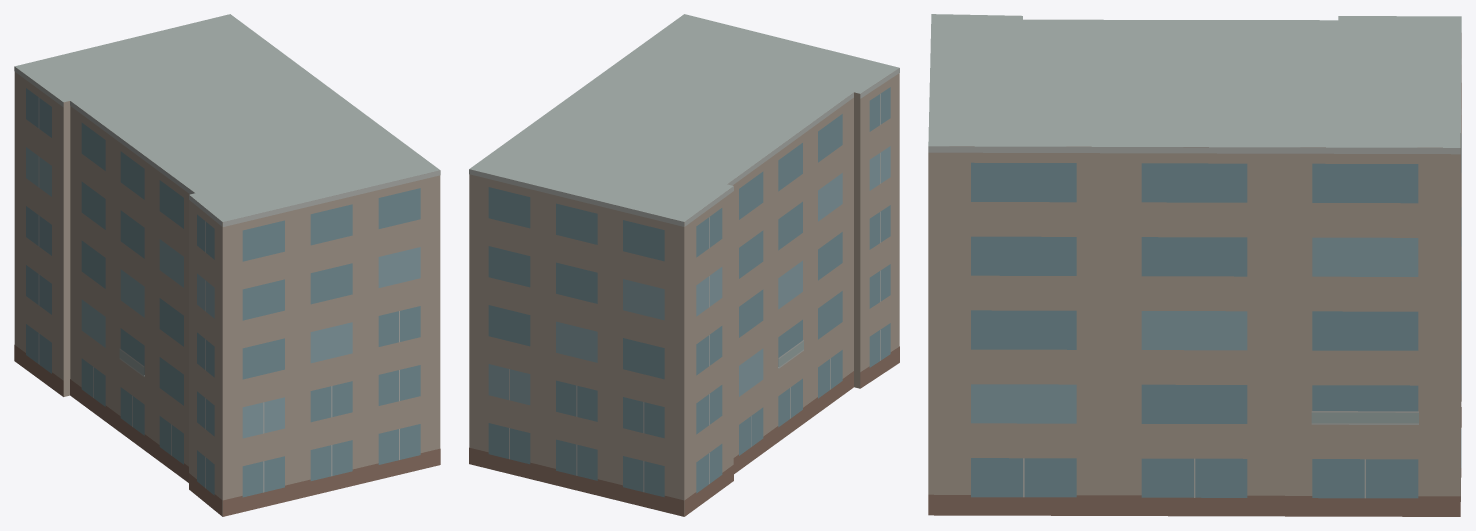
File: survey-upis-32739609.glb
The picture shows the model from 3 angles, left to right: view 1: azimuth 30°, elevation 25°; view 2: azimuth 150°, elevation 25°; view 3: azimuth 270°, elevation 25°; orthographic projection. The views are drawn at different scales.
Parts seen in each view (by area): view 1: survey-upis-32739609.tmp; view 2: survey-upis-32739609.tmp; view 3: survey-upis-32739609.tmp.
Part boxes in pixels (x1,y1,x2,y2): survey-upis-32739609.tmp: (14,14,440,516); survey-upis-32739609.tmp: (469,14,899,516); survey-upis-32739609.tmp: (928,14,1461,516).
Size of the model in its own units: 11.08 by 14.2 by 18.61.
